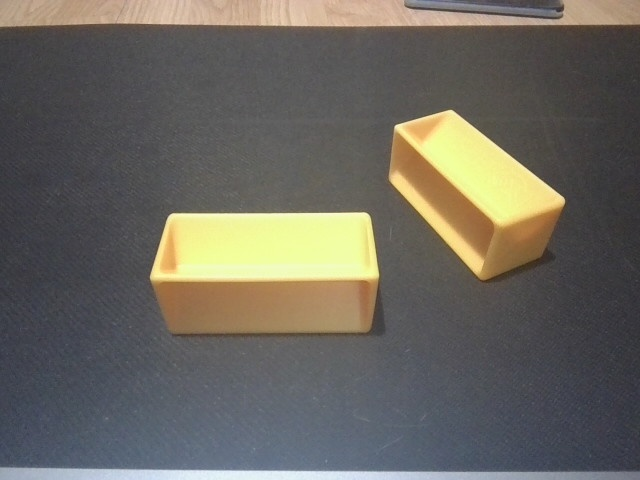YellowSample: (382, 106, 569, 284), (145, 206, 387, 341)
